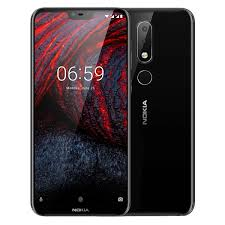nokia: (28, 3, 128, 216), (125, 5, 196, 219)
